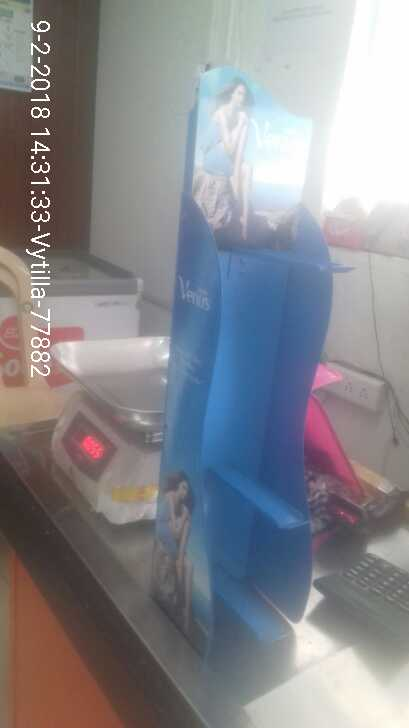reject: (159, 272, 352, 450)
